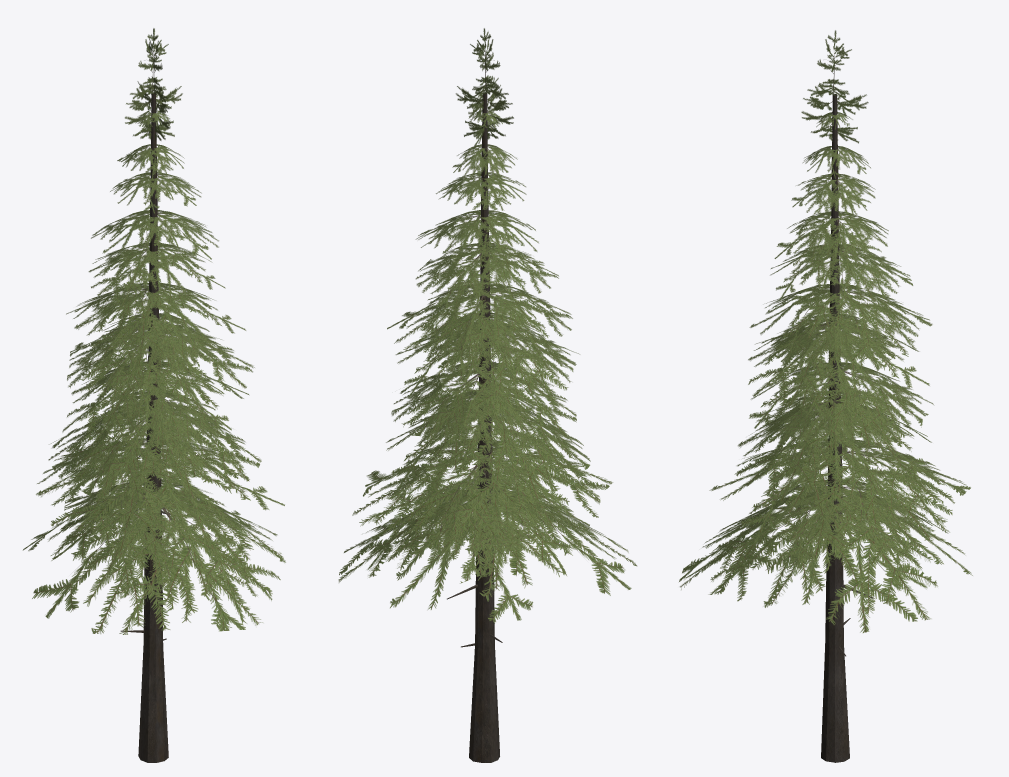
The model's file is pino_medio.glb.
3 renders of one model, left to right at view 1: azimuth 30°, elevation 25°; view 2: azimuth 150°, elevation 25°; view 3: azimuth 270°, elevation 25°, orthographic.
Parts seen in each view (by area): view 1: pino_medio; view 2: pino_medio; view 3: pino_medio.
Part boxes in pixels (box(x1,y1,x2,y2)): pino_medio: box(23, 28, 285, 762); pino_medio: box(338, 28, 637, 762); pino_medio: box(679, 30, 972, 762).
Size of the model in its own units: 4.15 by 11 by 4.38.
3 materials, 3 textured.
